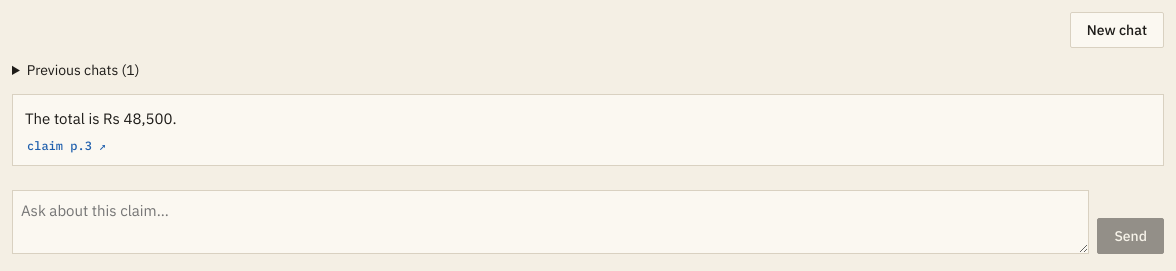
New chat starts an empty thread and previous chats are listed
This screenshot has width=1176, height=271.
Click the button "New chat". click: (1117,30)
box: x1=1070 y1=12 x2=1164 y2=48
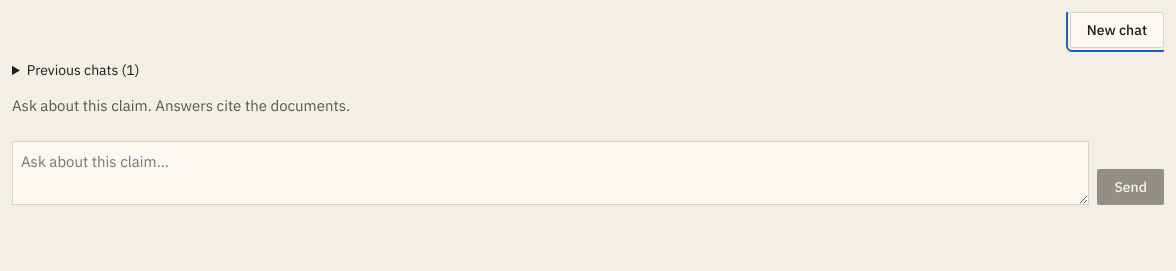
Now the text "The total is Rs 48,500." is gone
